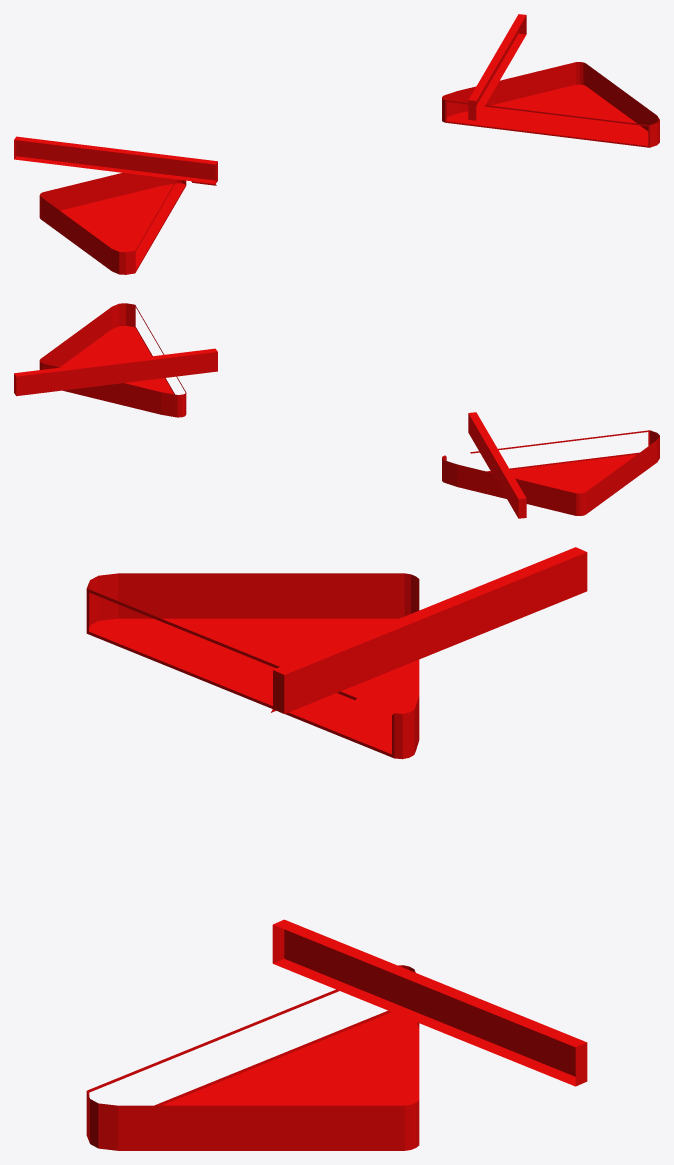
File: Slingshot.FBX
3 renders of one model, top to bottom at view 1: azimuth 30°, elevation 25°; view 2: azimuth 150°, elevation 25°; view 3: azimuth 270°, elevation 25°, orthographic. The views are drawn at different scales.
Parts seen in each view (by area): view 1: Line002, Object001; view 2: Line002, Object001; view 3: Line002, Object001.
Boxes of the visible parts, left/top/right/bottom form: Line002: left=39, top=62, right=659, bottom=274; Object001: left=14, top=14, right=526, bottom=185; Line002: left=39, top=303, right=659, bottom=515; Object001: left=14, top=348, right=526, bottom=518; Line002: left=86, top=573, right=419, bottom=1150; Object001: left=271, top=547, right=587, bottom=1086.
Size of the model in its own units: 75.74 by 5.81 by 30.1.
